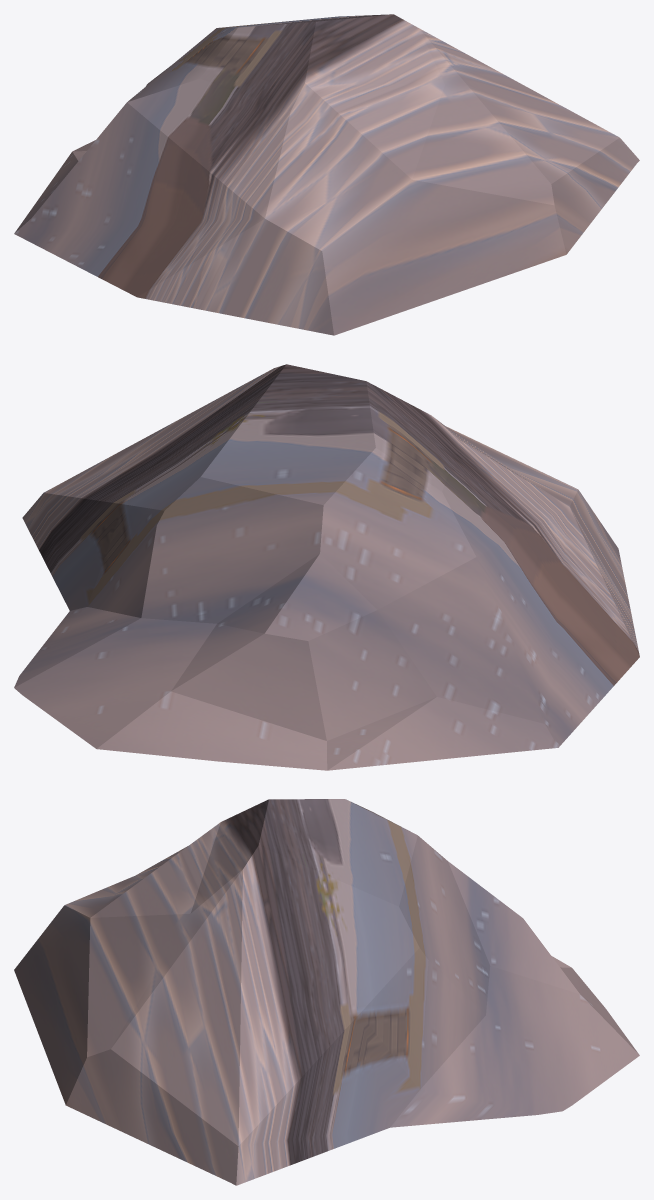
Rendered from Mountain_1.fbx.
3 renders of one model, top to bottom at view 1: azimuth 30°, elevation 25°; view 2: azimuth 150°, elevation 25°; view 3: azimuth 270°, elevation 25°, orthographic. The views are drawn at different scales.
Parts seen in each view (by area): view 1: Rock.008; view 2: Rock.008; view 3: Rock.008.
Boxes of the visible parts, bbox=[...] form: Rock.008: bbox=[14, 14, 639, 335]; Rock.008: bbox=[14, 364, 639, 770]; Rock.008: bbox=[14, 799, 639, 1185].
Size of the model in its own units: 8607 by 3123 by 7878.
